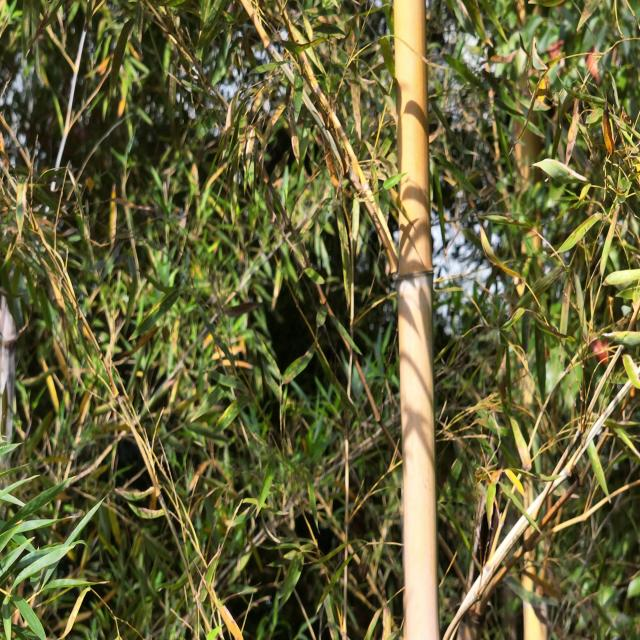Bamboo-shoots: (394, 0, 440, 639)
